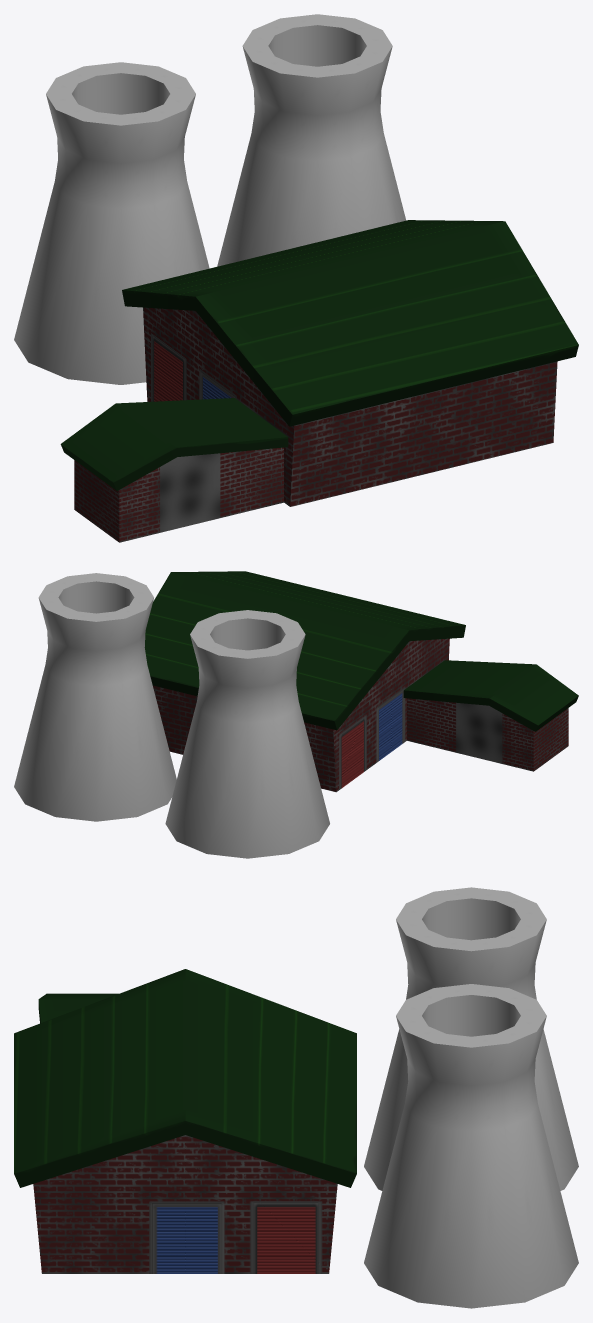
The model's file is Processing_Plant.fbx.
3 renders of one model, top to bottom at view 1: azimuth 30°, elevation 25°; view 2: azimuth 150°, elevation 25°; view 3: azimuth 270°, elevation 25°, orthographic. The views are drawn at different scales.
Parts seen in each view (by area): view 1: Processing_Plant; view 2: Processing_Plant; view 3: Processing_Plant.
Part boxes in pixels (x1,y1,x2,y2): Processing_Plant: [14, 14, 578, 542]; Processing_Plant: [14, 571, 578, 858]; Processing_Plant: [14, 887, 578, 1308].
Size of the model in its own units: 3.86 by 1.79 by 3.7.
Materials: 1 (1 with a texture image).
